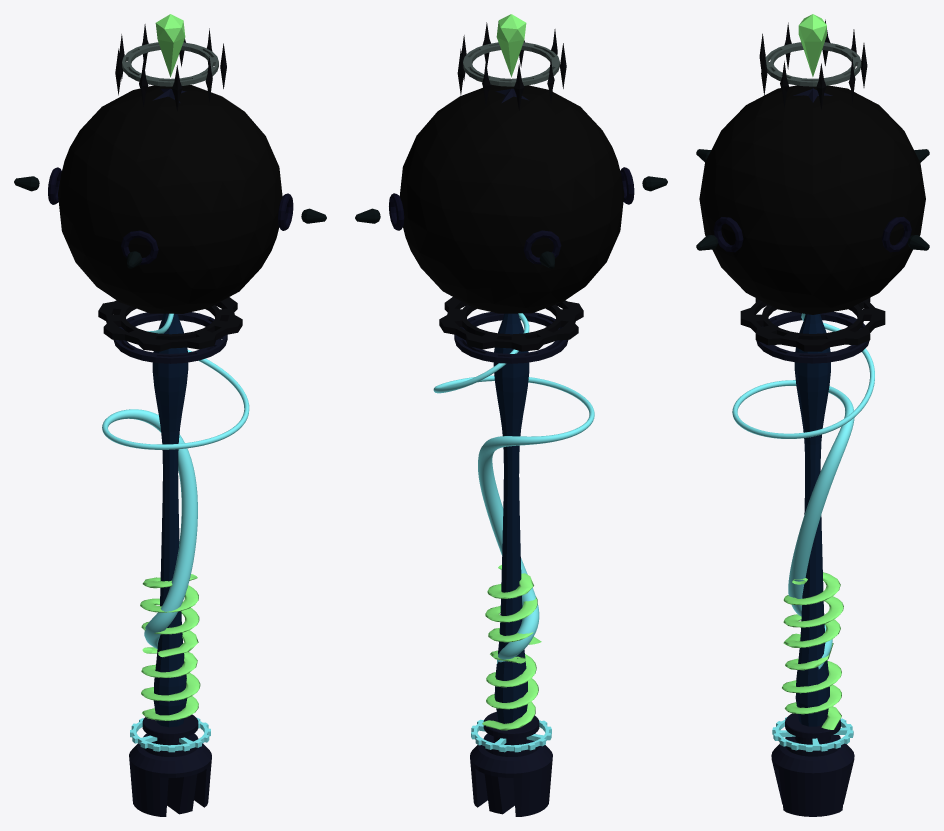
File: st3_switch_stick.fbx
3 views of the same model, side by side, from view 1: azimuth 30°, elevation 25°; view 2: azimuth 150°, elevation 25°; view 3: azimuth 270°, elevation 25° (orthographic).
Visible parts, largest first — view 1: 1_head_main_ball, 2_middle_main_stick, 3_bottom_cylinder2, 2_middle_curve1_001, 2_middle_curve1_002, 1_middle_gear1, 1_middle_gear2, 1_head_gear1, 1_head_ring, 1_head__dia, 1_head_point, 3_bottom_gear1 (+1 smaller); view 2: 1_head_main_ball, 2_middle_main_stick, 3_bottom_cylinder2, 2_middle_curve1_001, 1_middle_gear1, 2_middle_curve1_002, 1_middle_gear2, 1_head_gear1, 1_head_ring, 1_head__dia, 1_head_point, 3_bottom_gear1 (+1 smaller); view 3: 1_head_main_ball, 2_middle_main_stick, 3_bottom_cylinder2, 2_middle_curve1_001, 2_middle_curve1_002, 1_middle_gear1, 1_middle_gear2, 1_head_gear1, 1_head__dia, 1_head_ring, 1_head_point, 3_bottom_gear1 (+1 smaller).
Part boxes in pixels (<box>): 1_head_main_ball: <box>58,85,282,313</box>; 2_middle_main_stick: <box>152,313,188,727</box>; 3_bottom_cylinder2: <box>129,714,211,816</box>; 2_middle_curve1_001: <box>102,313,249,648</box>; 2_middle_curve1_002: <box>140,574,200,720</box>; 1_middle_gear1: <box>98,297,242,351</box>; 1_middle_gear2: <box>113,312,227,363</box>; 1_head_gear1: <box>122,42,218,86</box>; 1_head_ring: <box>48,167,293,264</box>; 1_head__dia: <box>115,24,226,111</box>; 1_head_point: <box>155,14,185,77</box>; 3_bottom_gear1: <box>130,717,210,752</box>; 1_head_main_ball: <box>399,84,624,313</box>; 2_middle_main_stick: <box>493,313,529,723</box>; 3_bottom_cylinder2: <box>470,712,552,816</box>; 2_middle_curve1_001: <box>433,313,594,663</box>; 1_middle_gear1: <box>439,297,583,351</box>; 2_middle_curve1_002: <box>482,565,541,730</box>; 1_middle_gear2: <box>454,312,568,363</box>; 1_head_gear1: <box>463,42,559,86</box>; 1_head_ring: <box>389,167,634,264</box>; 1_head__dia: <box>457,22,566,110</box>; 1_head_point: <box>496,14,526,77</box>; 3_bottom_gear1: <box>471,717,551,752</box>; 1_head_main_ball: <box>699,85,925,314</box>; 2_middle_main_stick: <box>794,314,830,726</box>; 3_bottom_cylinder2: <box>771,713,854,816</box>; 2_middle_curve1_001: <box>732,313,874,668</box>; 2_middle_curve1_002: <box>782,572,843,729</box>; 1_middle_gear1: <box>740,298,885,351</box>; 1_middle_gear2: <box>756,311,869,363</box>; 1_head_gear1: <box>765,42,861,86</box>; 1_head__dia: <box>759,19,867,109</box>; 1_head_ring: <box>713,216,911,252</box>; 1_head_point: <box>798,14,826,76</box>; 3_bottom_gear1: <box>772,717,853,751</box>.
Bounding box in the file's own units: 229 × 867 × 233.
